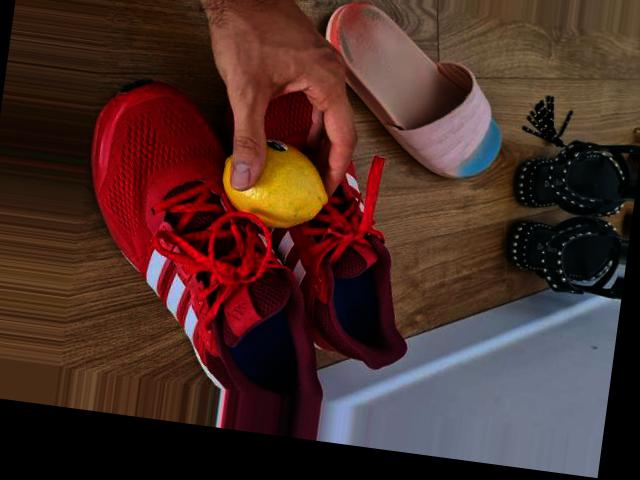lemon: (214, 140, 333, 235)
